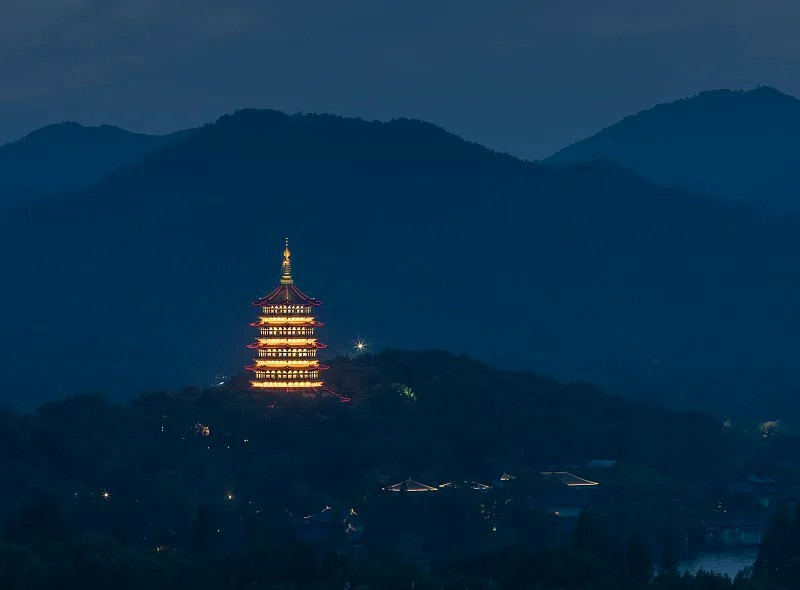Leifeng: (238, 233, 328, 395)
